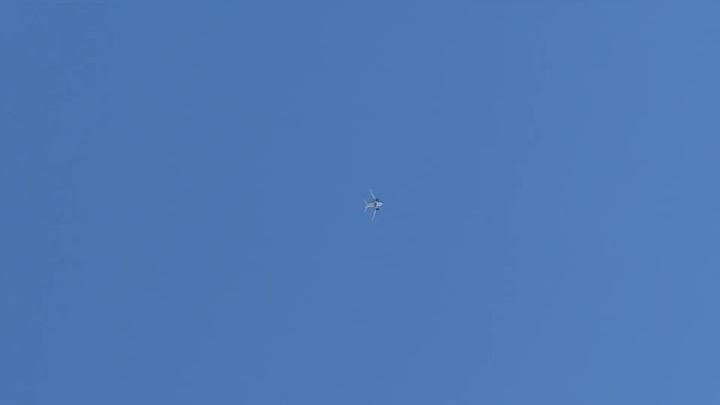Plane: (347, 183, 399, 225)
